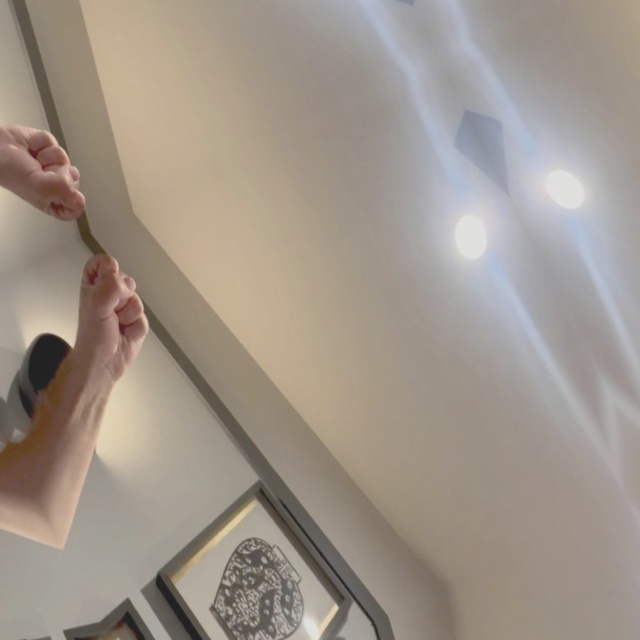Rock: (0, 88, 108, 251)
